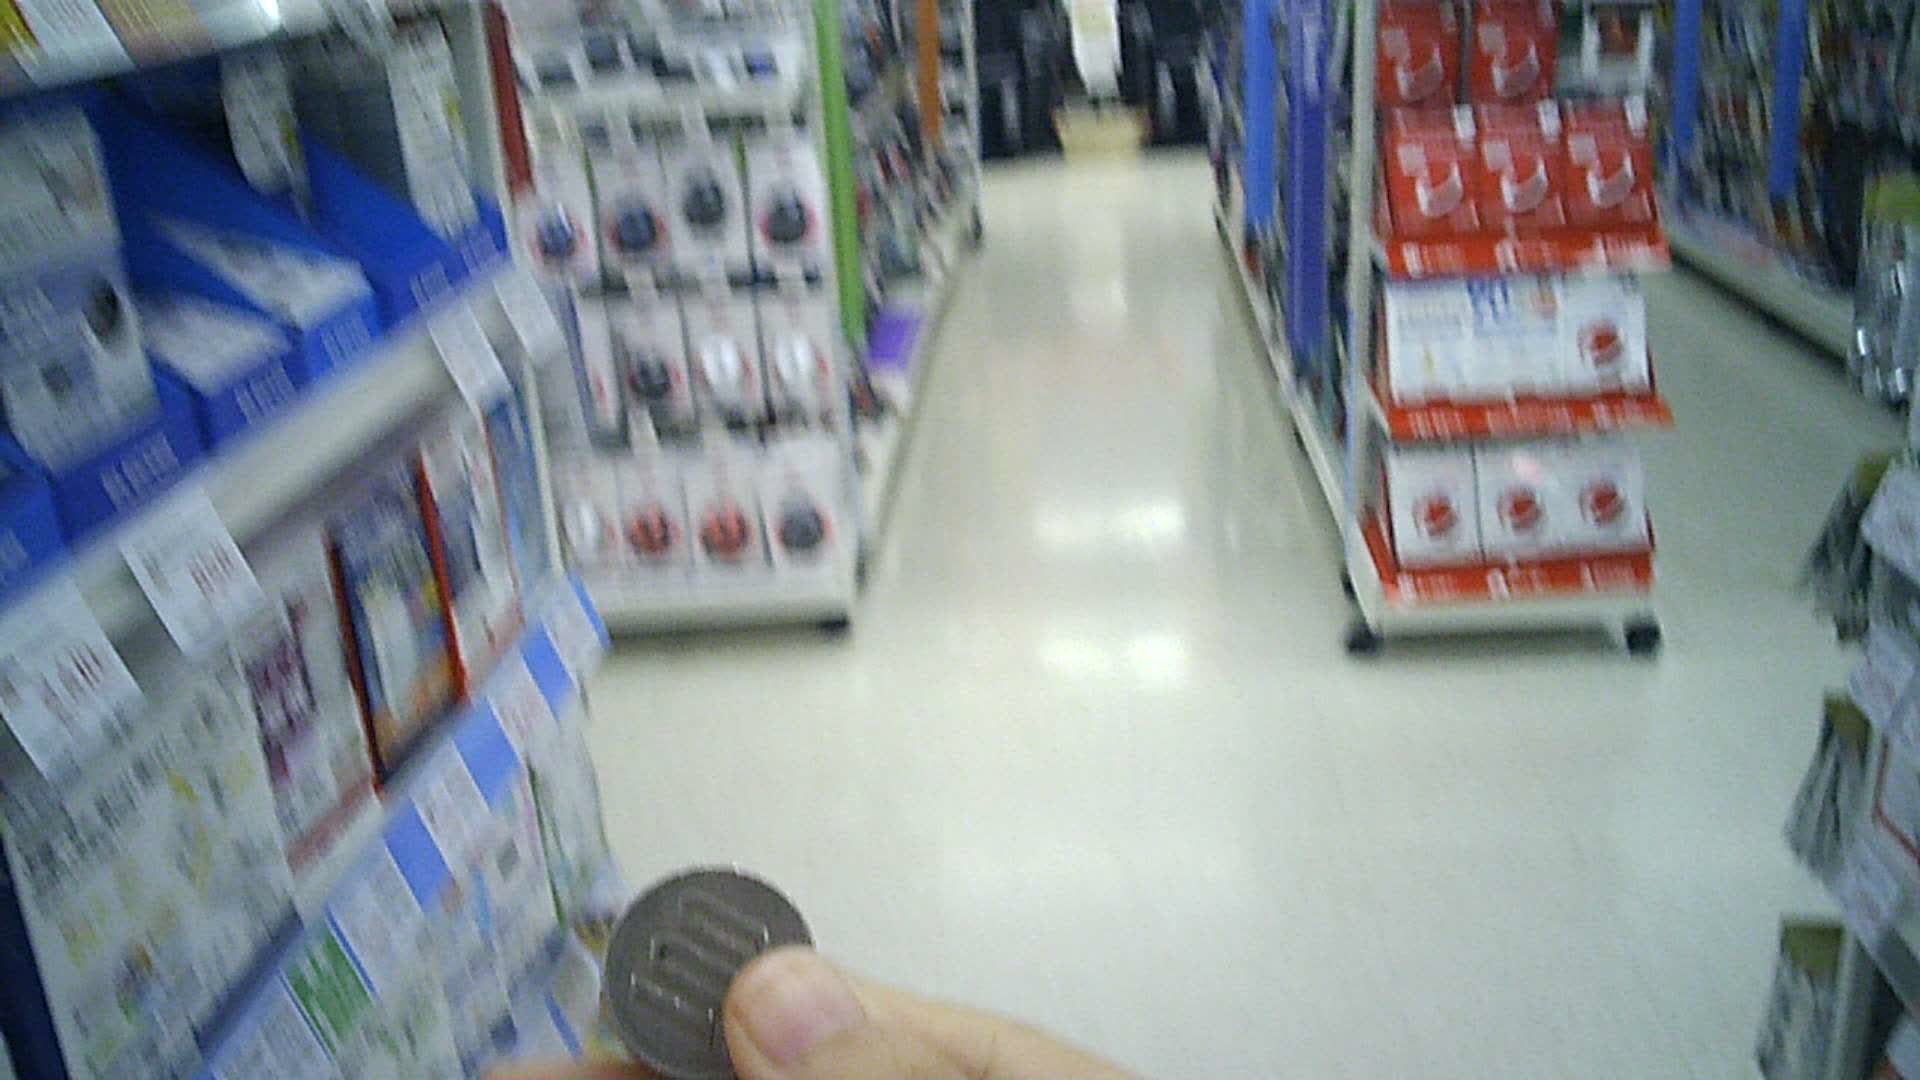100 Yen: (600, 869, 820, 1073)
